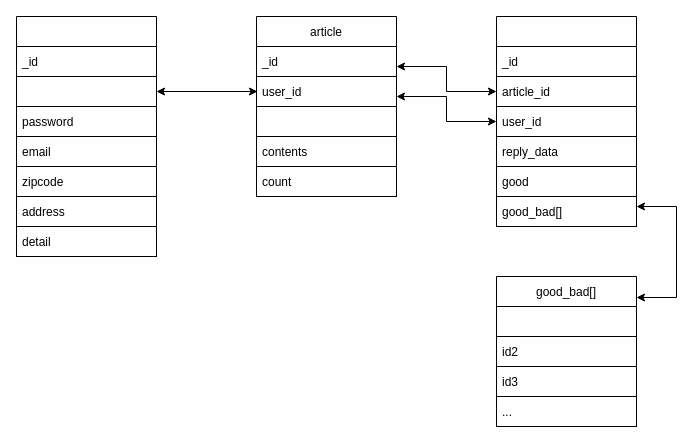
The diagram is 693 pixels wide and 443 high, and some of its shapes have lost their labels. Here are the shapes that lost their labels. From the top down, the box of each, then its label:
(16, 16, 156, 136): user
(16, 76, 156, 106): id
(496, 16, 636, 136): reply
(256, 106, 396, 136): title
(496, 306, 636, 336): id1
